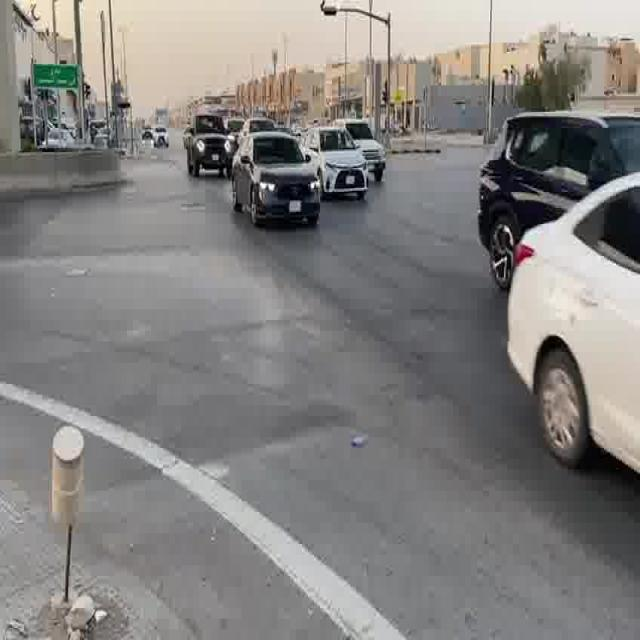bus: (502, 128, 639, 486), (478, 108, 639, 281), (235, 131, 323, 229), (302, 124, 370, 201), (185, 106, 232, 171), (344, 121, 389, 180), (187, 135, 232, 177), (153, 126, 169, 147)
car: (179, 209, 640, 640), (502, 128, 639, 486), (478, 108, 639, 281), (235, 131, 323, 229), (302, 124, 370, 201), (185, 106, 232, 171), (344, 121, 389, 180), (187, 135, 232, 177), (153, 126, 169, 147)
lanes: (179, 209, 640, 640), (226, 209, 639, 634)
lanes2: (226, 209, 639, 634), (260, 205, 640, 474)
lanes3: (260, 205, 640, 474), (286, 201, 640, 404)
lanes4: (286, 201, 640, 404), (327, 192, 640, 313)
lanes5: (327, 192, 640, 313)
